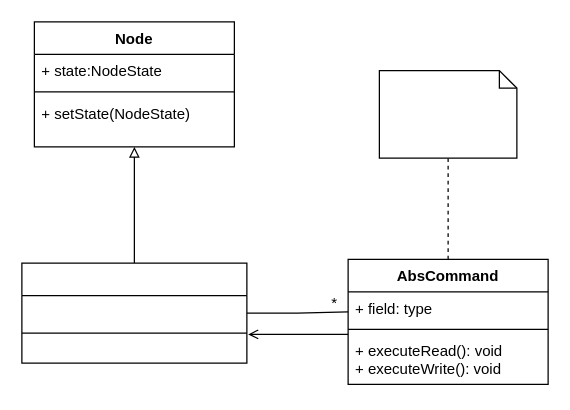
The diagram is 570 pixels wide and 410 high, and some of its shapes have lost their labels. Here are the shapes that lost their labels. From the top down, the centre of each, then its label:
At (447,113): "executes call this.node.setState()".
At (134,312): "BasicExecutionNode".
